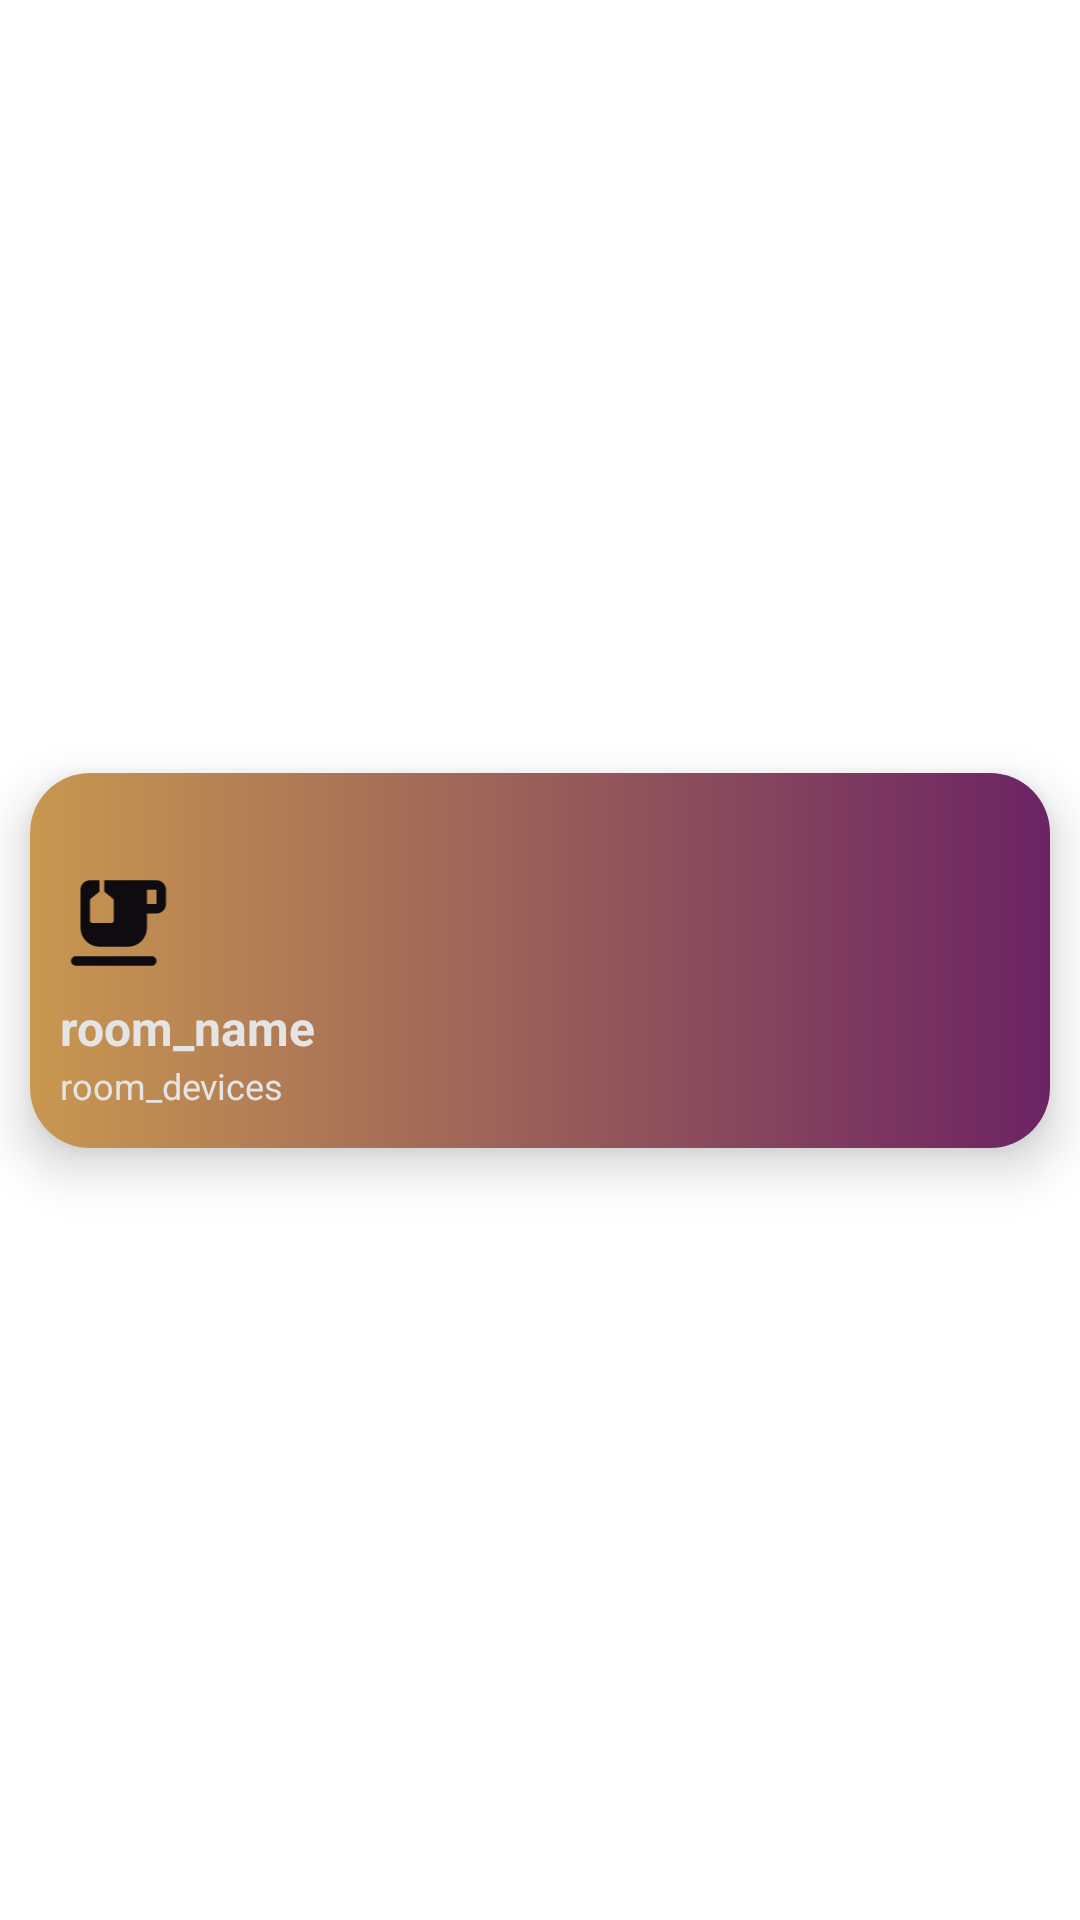

Point at icon controls on the screen. Image size 1080*1920, points as [x,y].
kitchen: [118,923]
